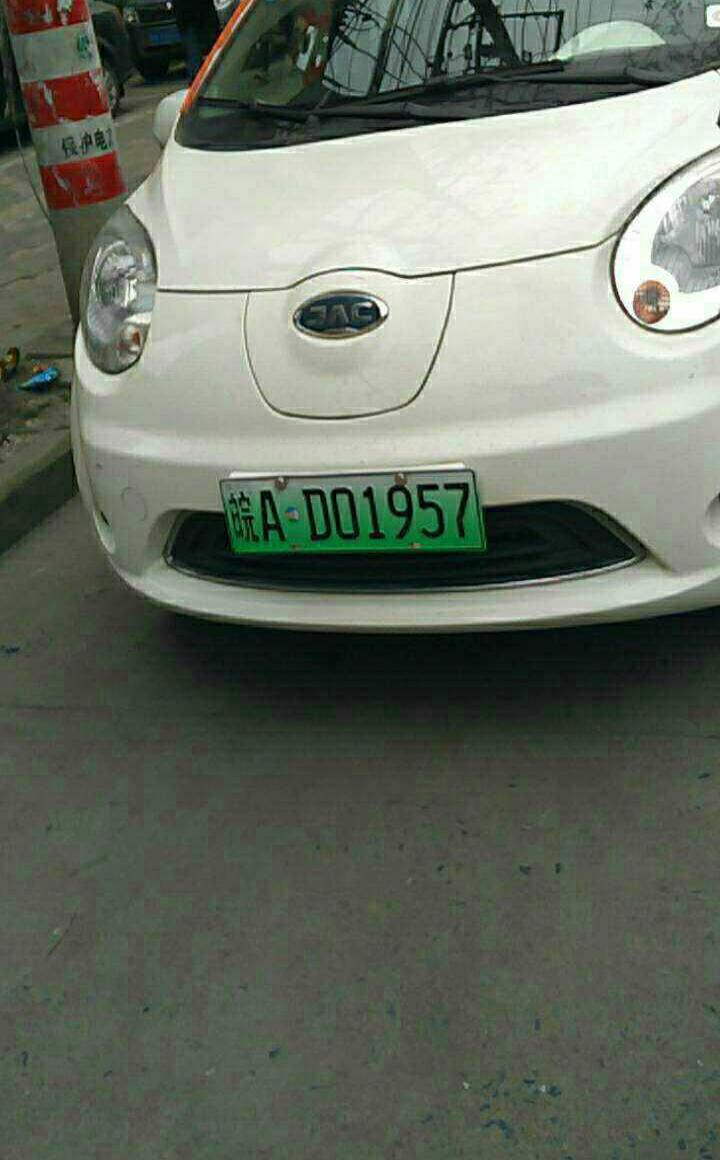car: (218, 464, 486, 570)
